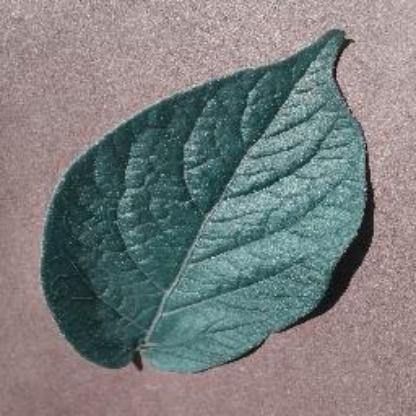Healthy-plant: (39, 27, 385, 378)
